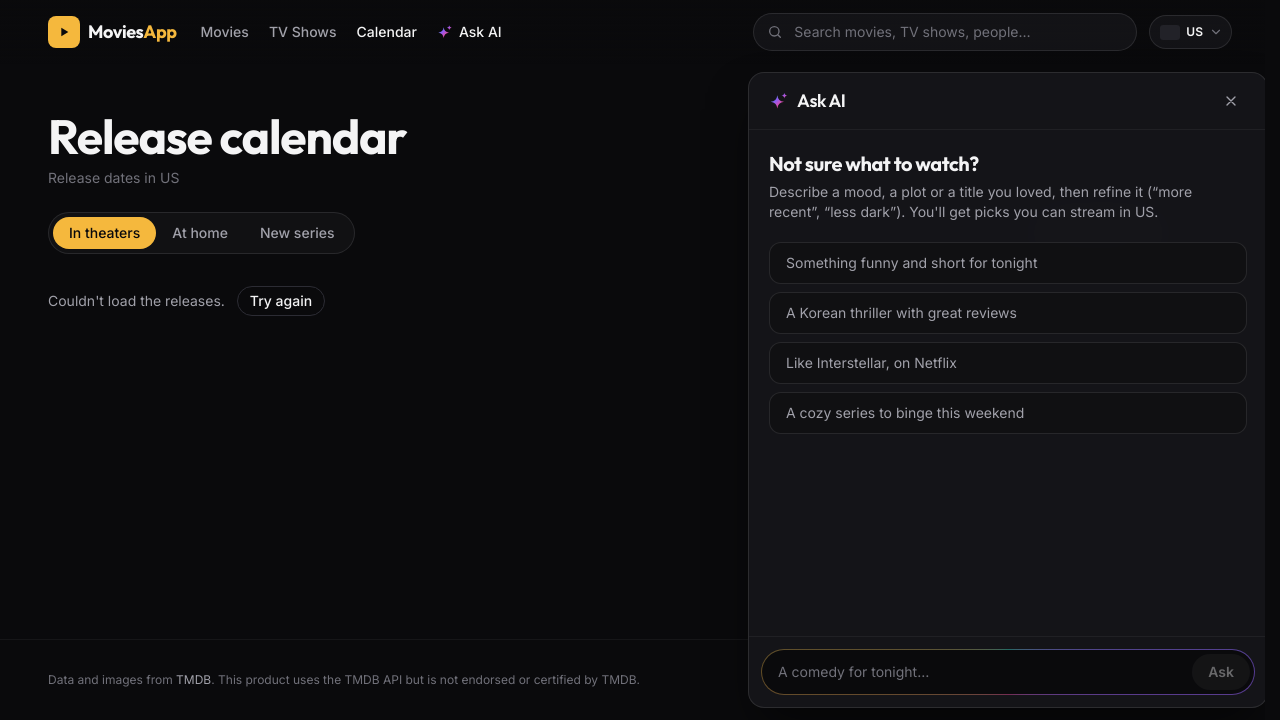
AI assistant › is a conversation: follow-ups send a recap of the earlier turns
The width and height of the screenshot is (1280, 720).
Type "a short comedy" into the field named "Your request" at (981,672), box [778,654,1184,690]
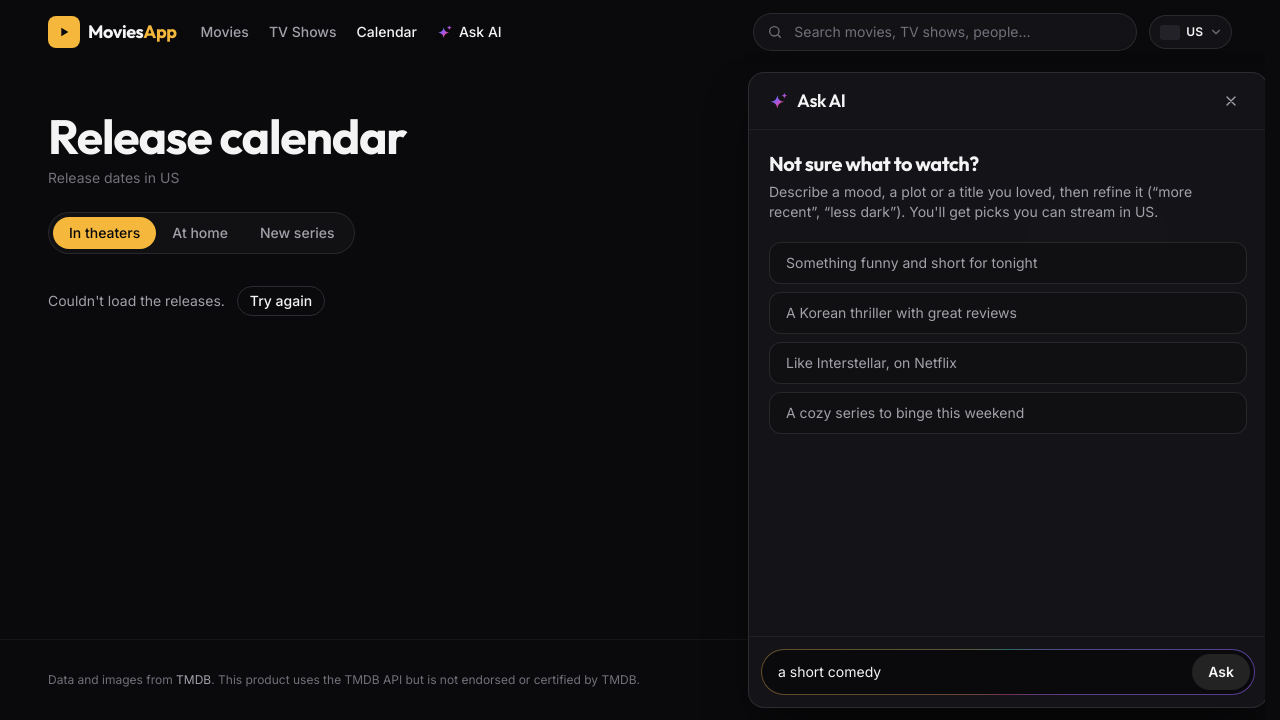
Click the button "Ask" at (1221,672), box [1192,654,1250,690]
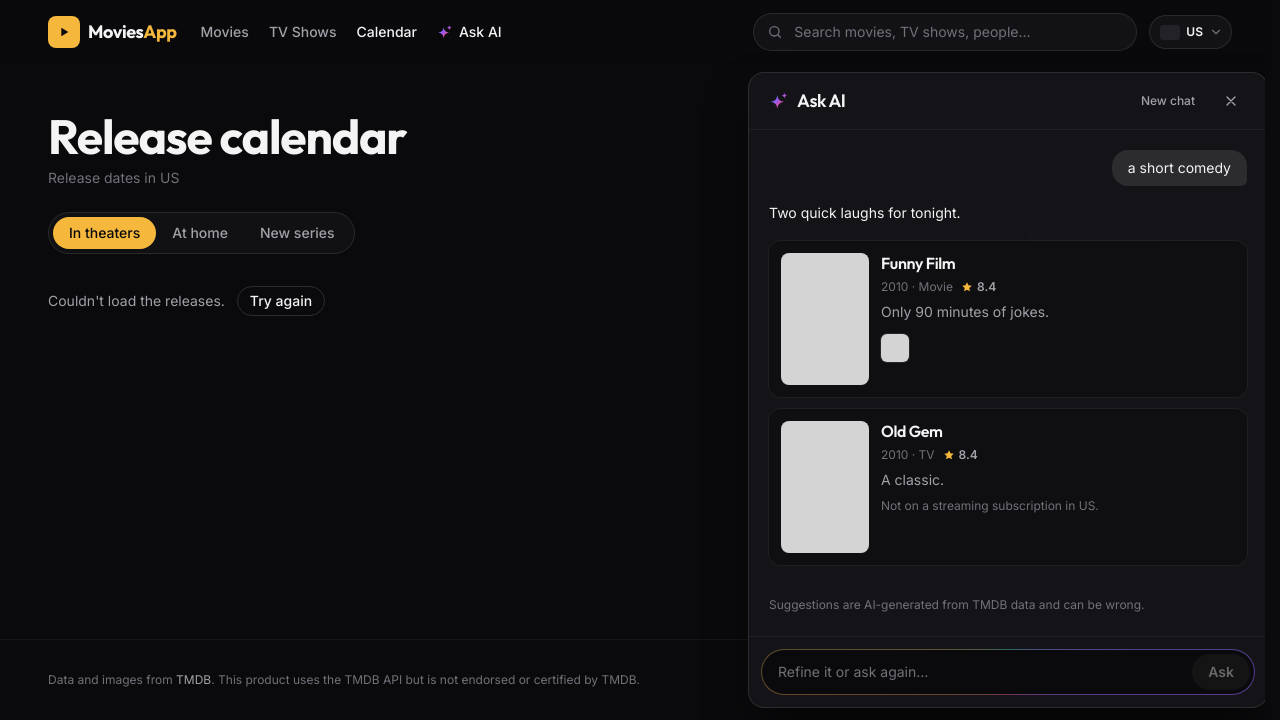
Expected: the text "Two quick laughs for tonight." is shown, [769,204,961,221]
Type "more recent ones" into the field named "Your request" at (981,672), box [778,654,1184,690]
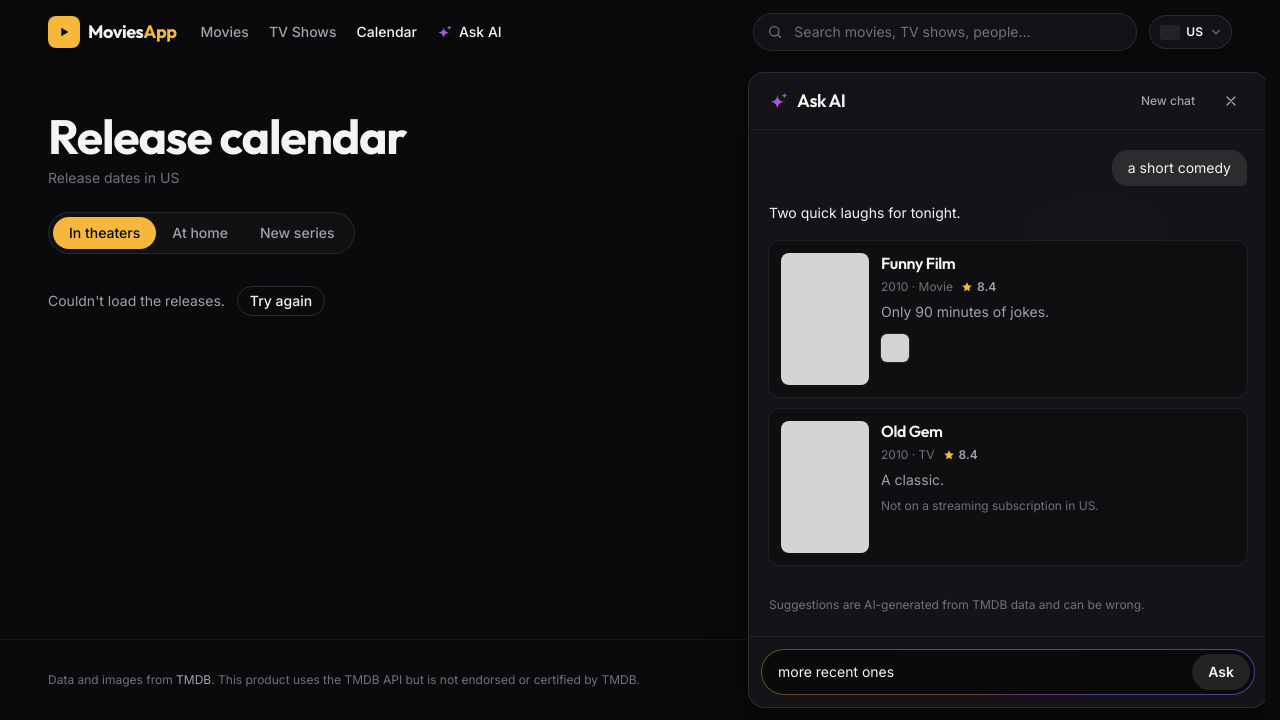
Click the button "Ask" at (1221,672), box [1192,654,1250,690]
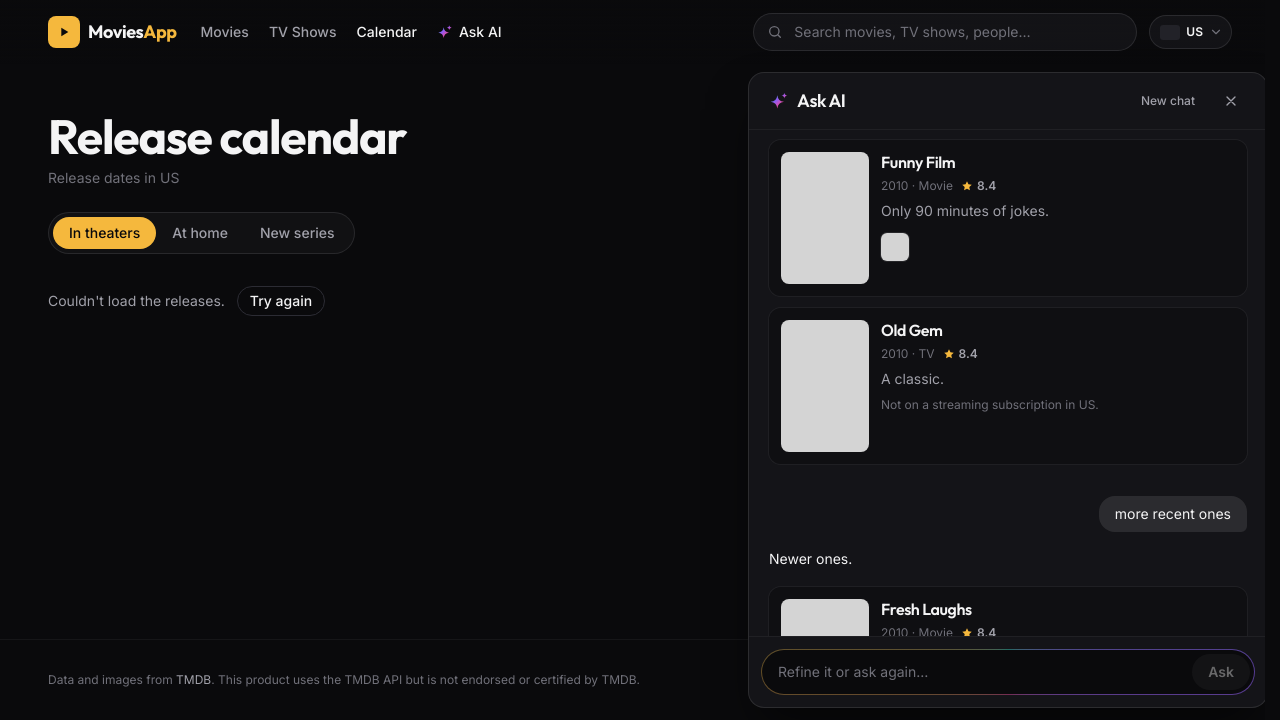
Expected: the text "Newer ones." is shown, [769,550,852,567]
